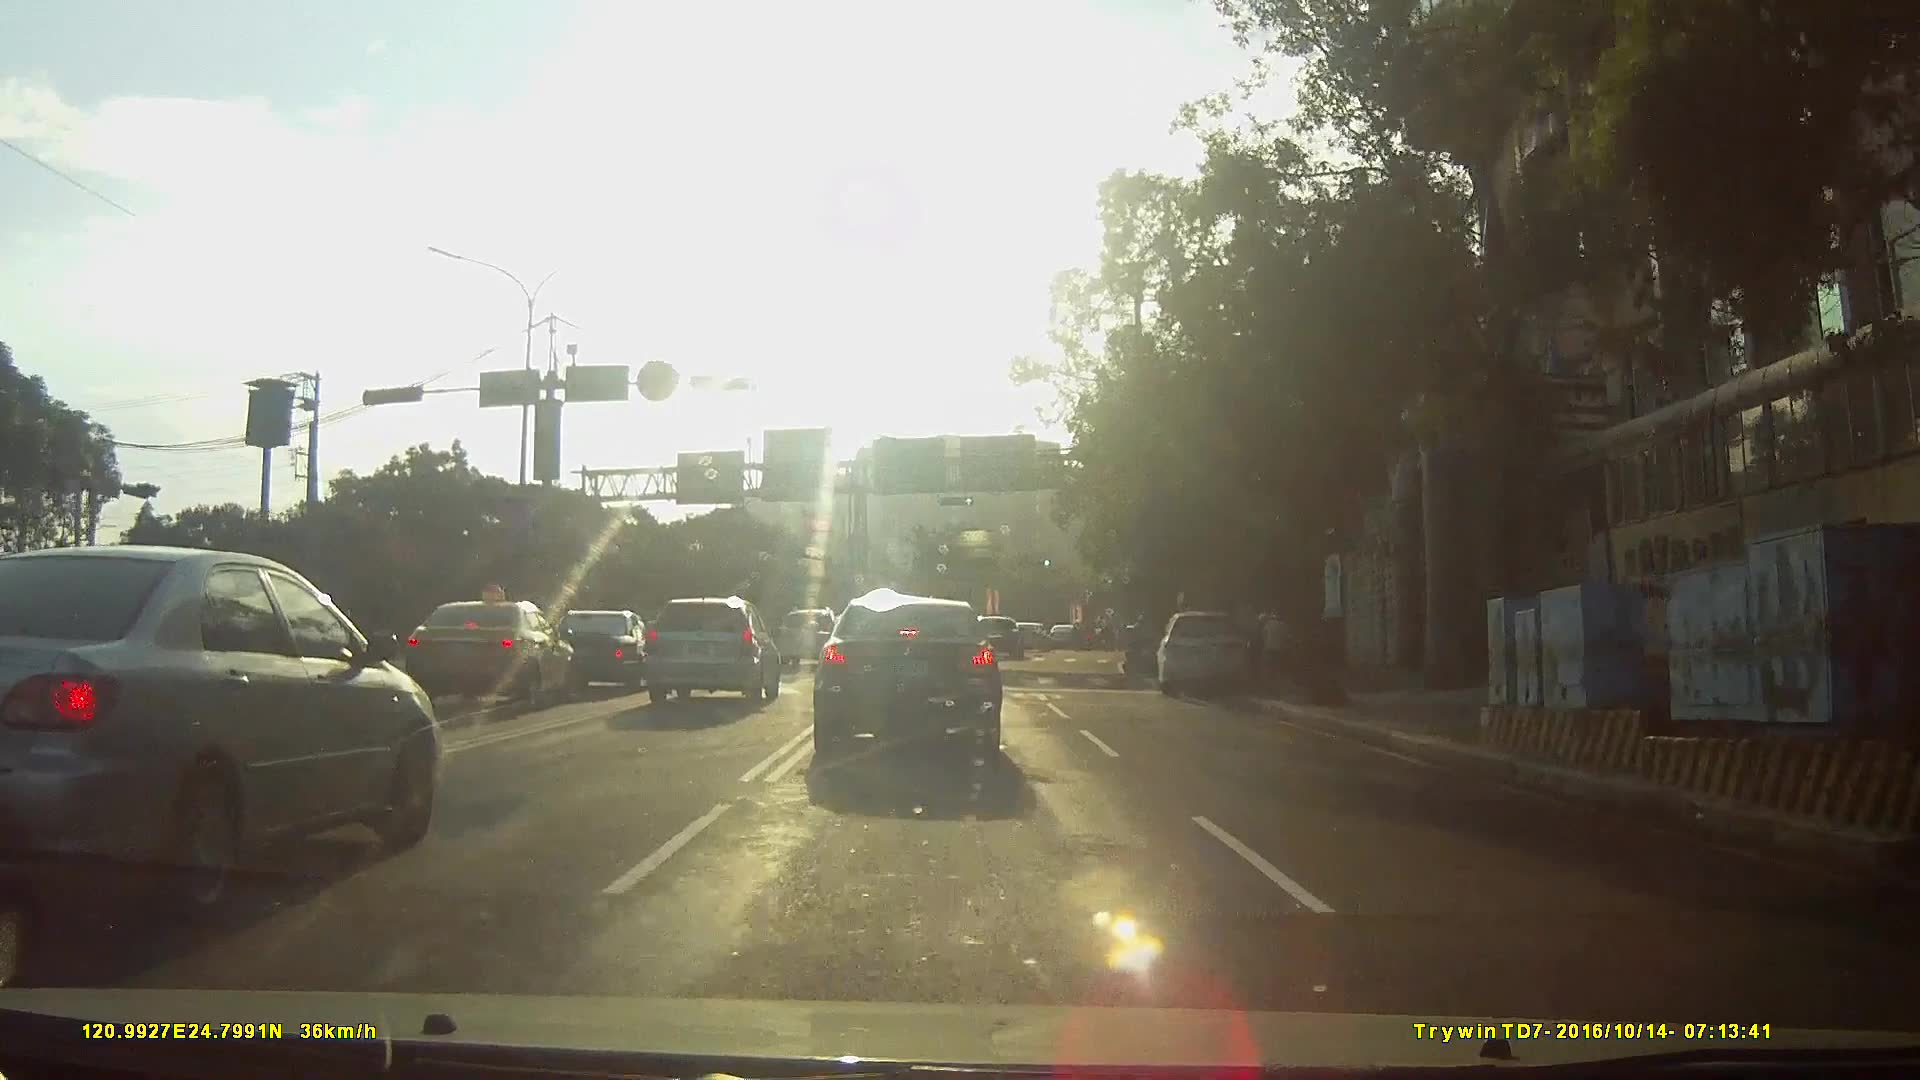pedestrian: (1257, 609, 1295, 678)
vehicle: (1, 539, 456, 915), (805, 597, 1019, 776), (379, 599, 562, 715), (641, 592, 781, 704), (526, 609, 650, 696), (1156, 603, 1270, 695), (780, 607, 846, 671), (971, 615, 1029, 661), (1015, 621, 1054, 653), (1048, 623, 1089, 651)
